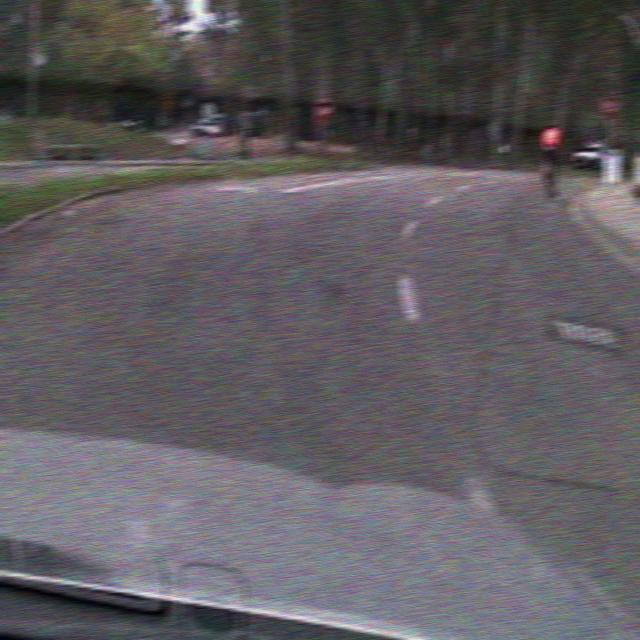stop_sign: (598, 90, 622, 118), (312, 96, 334, 123)
